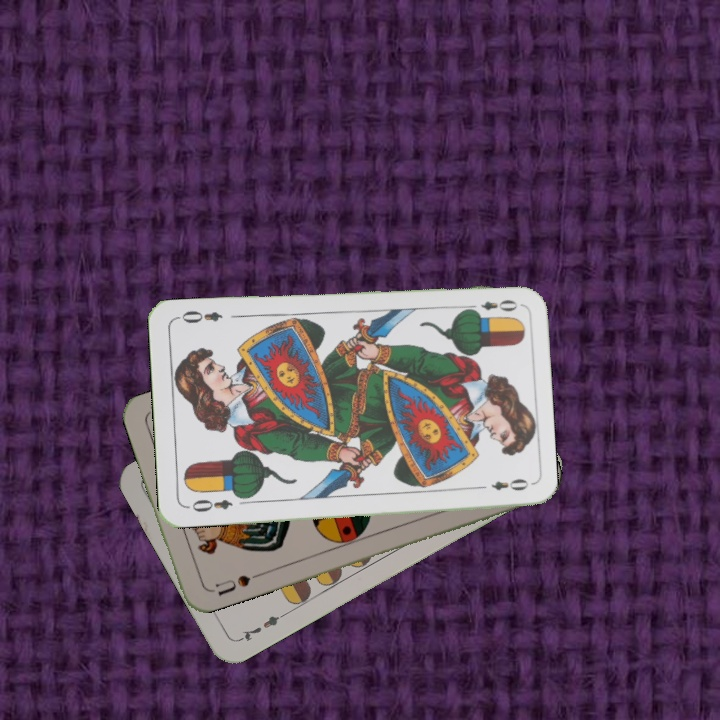E7: (234, 609, 288, 645)
EO: (462, 296, 520, 316), (183, 495, 235, 515)
SU: (205, 569, 262, 598)
